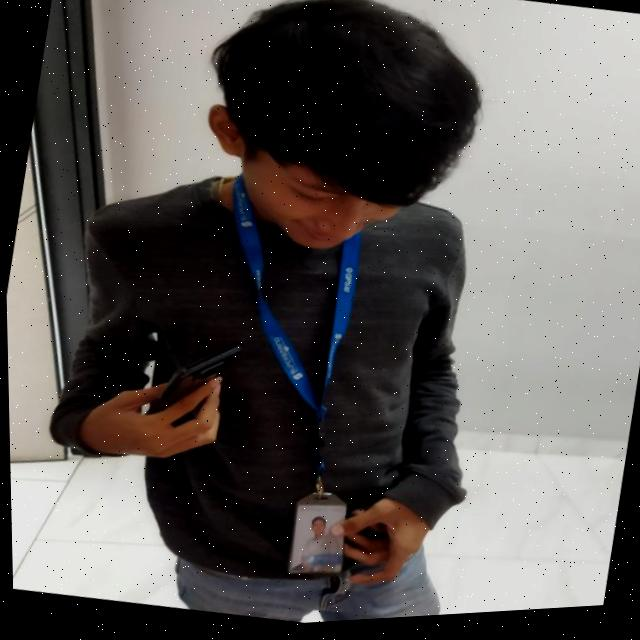id_card: (167, 174, 419, 591)
